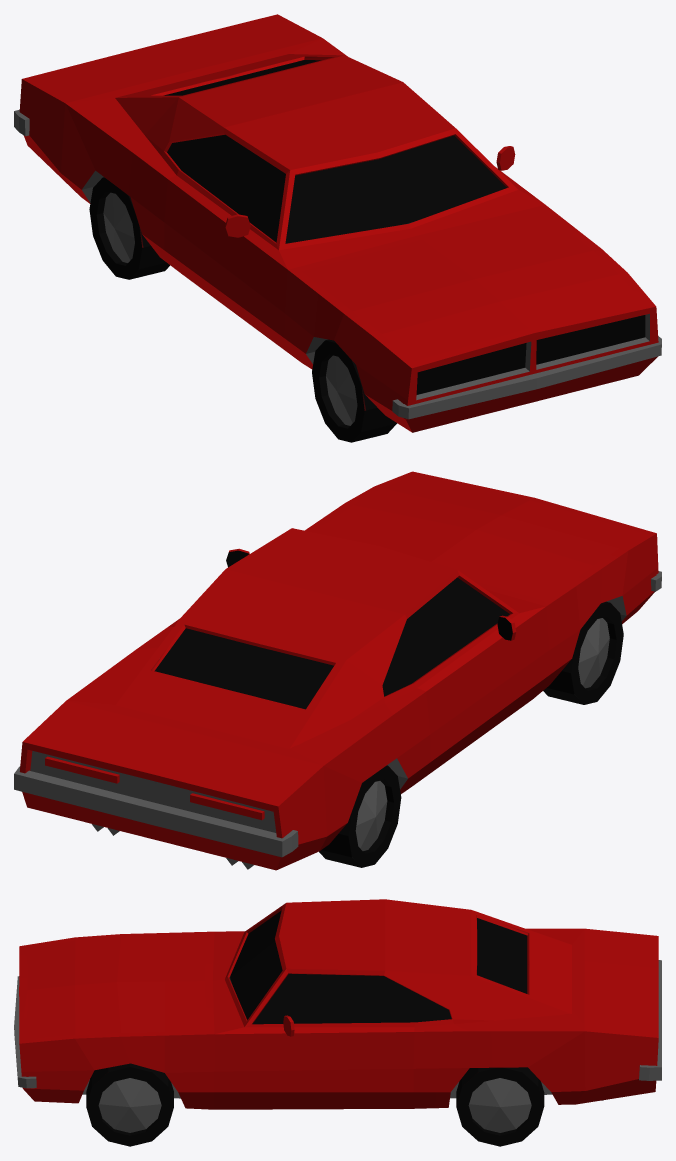
Rendered from car1_broken.fbx.
3 renders of one model, top to bottom at view 1: azimuth 30°, elevation 25°; view 2: azimuth 150°, elevation 25°; view 3: azimuth 270°, elevation 25°, orthographic. The views are drawn at different scales.
Visible parts, largest first — view 1: base, ditale1, wheel4, wheel3, ditale2; view 2: base, ditale1, ditale5, wheel3, wheel4; view 3: base, ditale1, wheel1, wheel2, ditale5, ditale2.
Part boxes in pixels (x1,y1,x2,y2): base: [19, 14, 658, 432]; ditale1: [302, 210, 643, 361]; wheel4: [312, 339, 397, 442]; wheel3: [89, 177, 169, 279]; ditale2: [392, 336, 661, 419]; base: [19, 471, 658, 870]; ditale1: [313, 475, 643, 600]; ditale5: [14, 766, 298, 857]; wheel3: [319, 765, 401, 867]; wheel4: [543, 601, 623, 704]; base: [19, 899, 658, 1109]; ditale1: [27, 935, 205, 1039]; wheel1: [86, 1063, 173, 1146]; wheel2: [456, 1067, 544, 1146]; ditale5: [639, 960, 661, 1080]; ditale2: [14, 976, 36, 1088].
Size of the model in its own units: 137 by 86.72 by 319.
